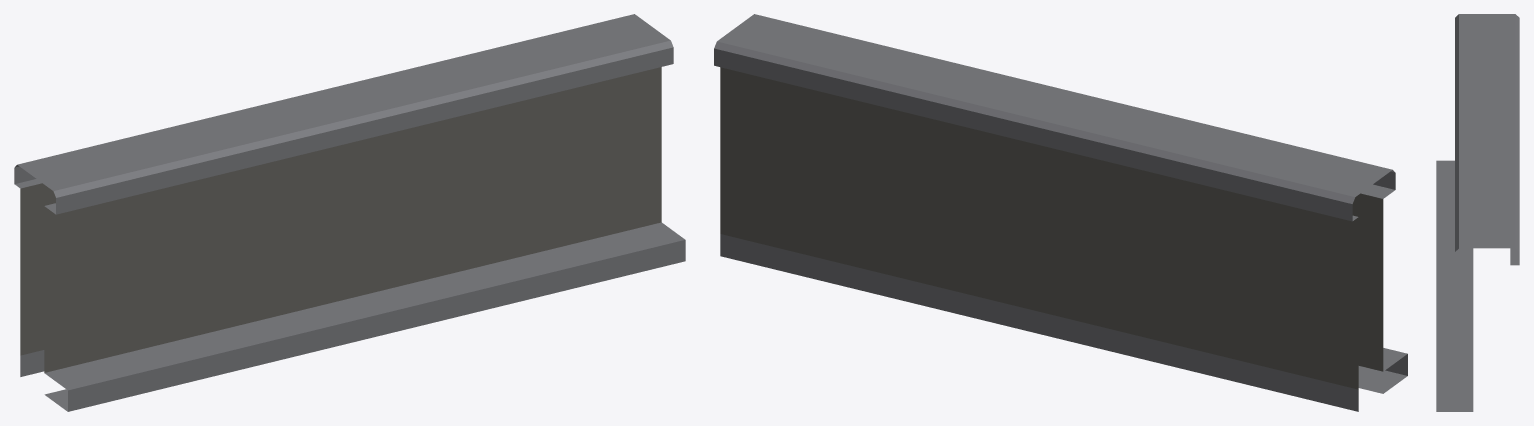
File: SM_Roof_3m.fbx
The picture shows the model from 3 angles, left to right: view 1: azimuth 30°, elevation 25°; view 2: azimuth 150°, elevation 25°; view 3: azimuth 270°, elevation 25°; orthographic projection. The views are drawn at different scales.
Visible parts, largest first — view 1: SM_Roof_3m; view 2: SM_Roof_3m; view 3: SM_Roof_3m.
Part boxes in pixels (x1,y1,x2,y2): SM_Roof_3m: [14, 14, 685, 411]; SM_Roof_3m: [714, 14, 1407, 411]; SM_Roof_3m: [1436, 14, 1519, 411].
Size of the model in its own units: 300 by 97.55 by 45.
